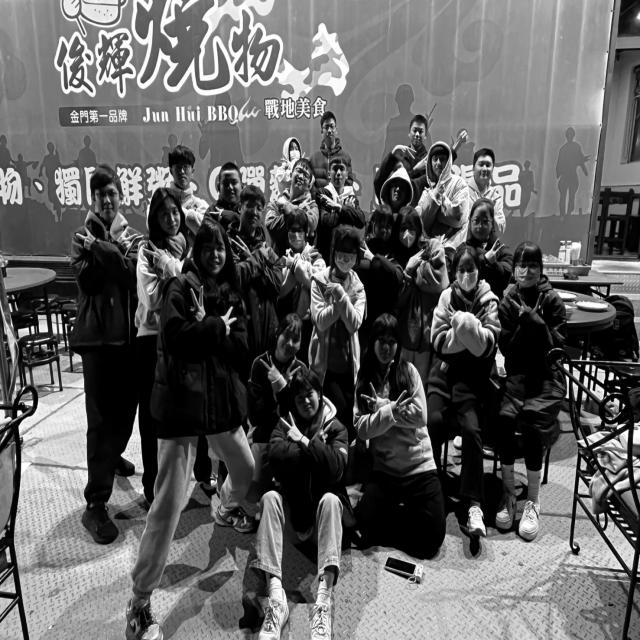sit: (336, 306, 446, 587), (231, 382, 350, 598), (216, 307, 321, 530), (429, 249, 498, 553), (500, 222, 556, 546)
stand: (148, 225, 240, 574), (70, 139, 134, 544), (130, 200, 192, 498), (218, 178, 272, 492), (313, 219, 368, 440), (277, 208, 319, 384), (312, 102, 357, 217)
